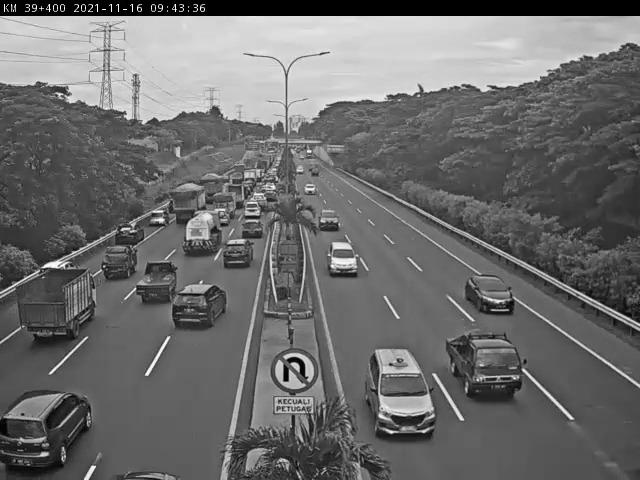car: (0, 390, 94, 472), (368, 346, 436, 438), (447, 330, 530, 401), (172, 280, 227, 325), (463, 272, 515, 316), (136, 263, 182, 309), (100, 245, 137, 282), (327, 239, 359, 277), (223, 238, 255, 268), (115, 220, 146, 244), (242, 217, 266, 238), (142, 212, 165, 232), (317, 207, 338, 228), (211, 208, 232, 228), (242, 203, 259, 221)
small truck: (14, 265, 100, 342)
truck-l-: (170, 182, 209, 224)
truck-m-: (180, 210, 226, 258)
